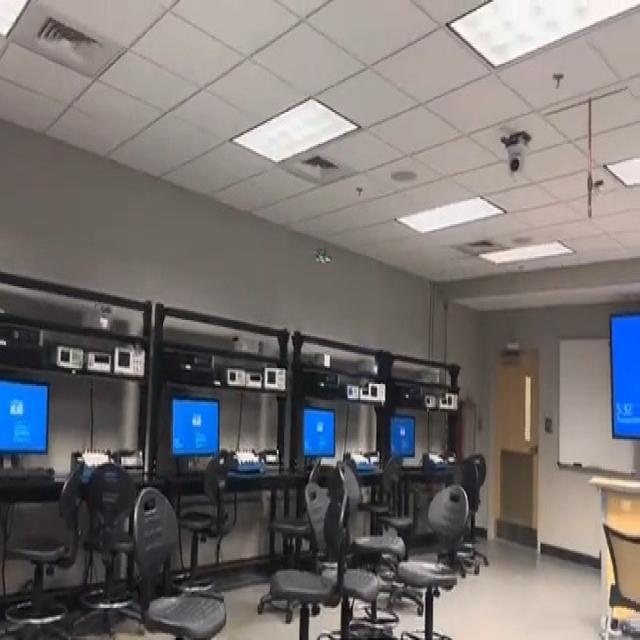drone: (305, 227, 342, 277)
